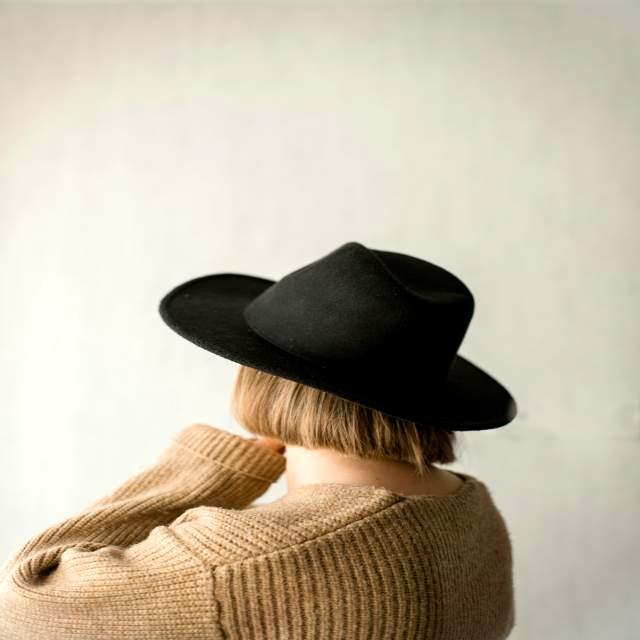no_hard_hat: (159, 243, 516, 431)
person: (2, 243, 516, 640)
